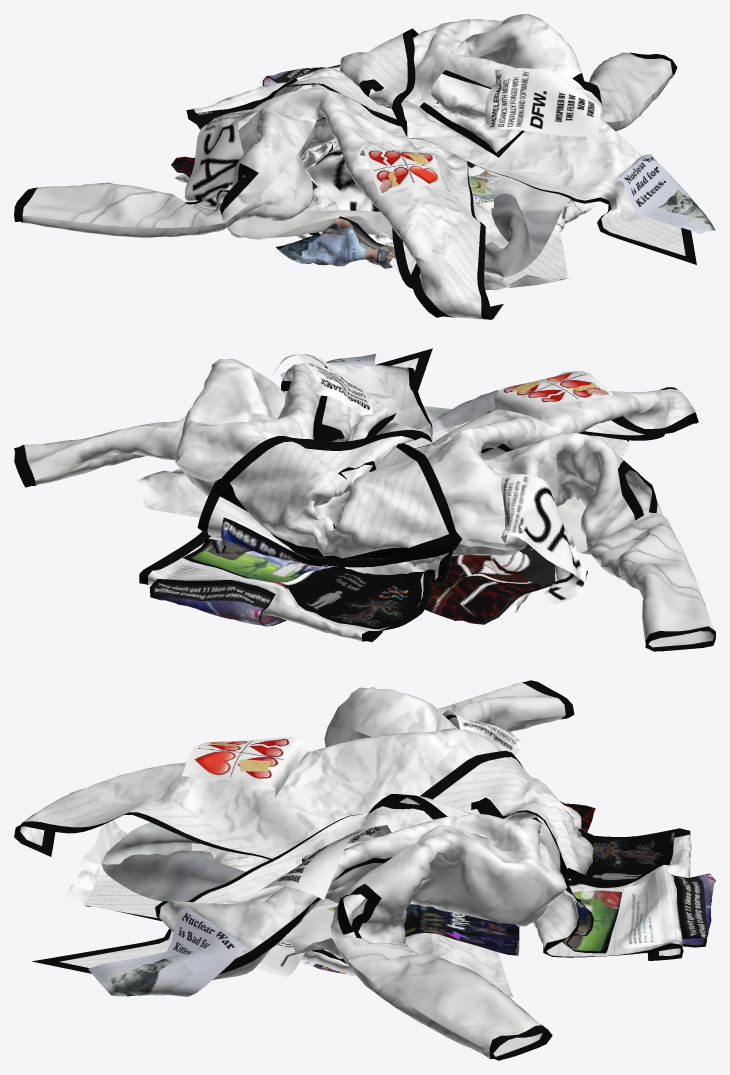
The model's file is xoku-v1-opt-v3.glb.
3 views of the same model, one above another, from view 1: azimuth 30°, elevation 25°; view 2: azimuth 150°, elevation 25°; view 3: azimuth 270°, elevation 25° (orthographic). The views are drawn at different scales.
Parts seen in each view (by area): view 1: Cloth.001; view 2: Cloth.001; view 3: Cloth.001.
Boxes of the visible parts, box(x1,y1,x2,y2) form: Cloth.001: box(14, 14, 715, 319); Cloth.001: box(14, 348, 715, 651); Cloth.001: box(14, 680, 715, 1060).
Bounding box in the file's own units: 5.43 × 0.9668 × 4.39.
Materials: 1 (1 with a texture image).
